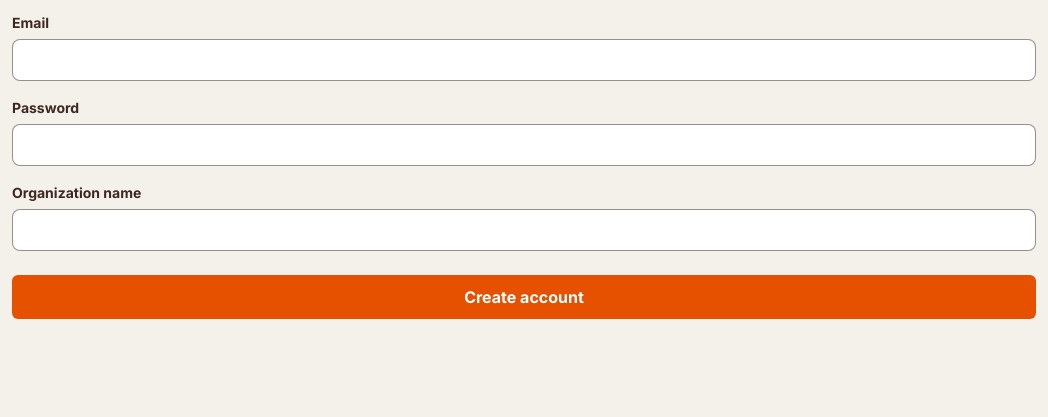
Scenario: RegisterForm › blocks submit when fields are invalid
Click the button "Create account" at (524, 297), box [12,275,1036,319]
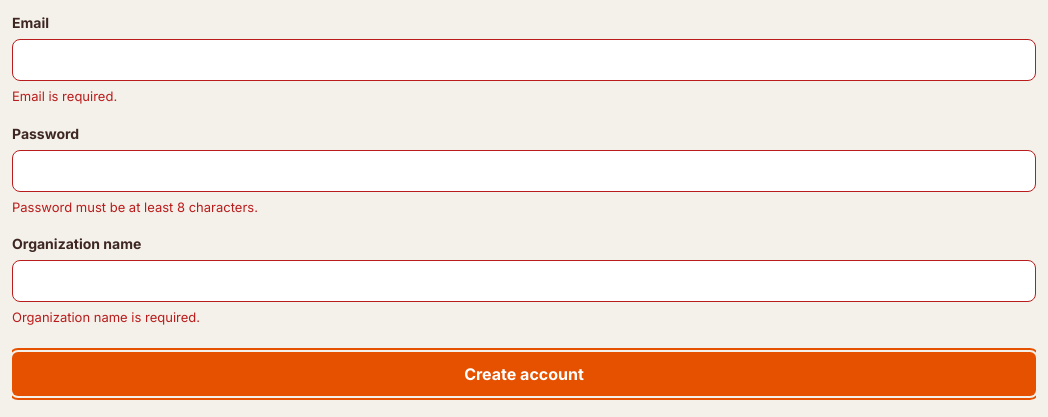
Now the text "Email is required." is shown, box [12,88,117,104]
